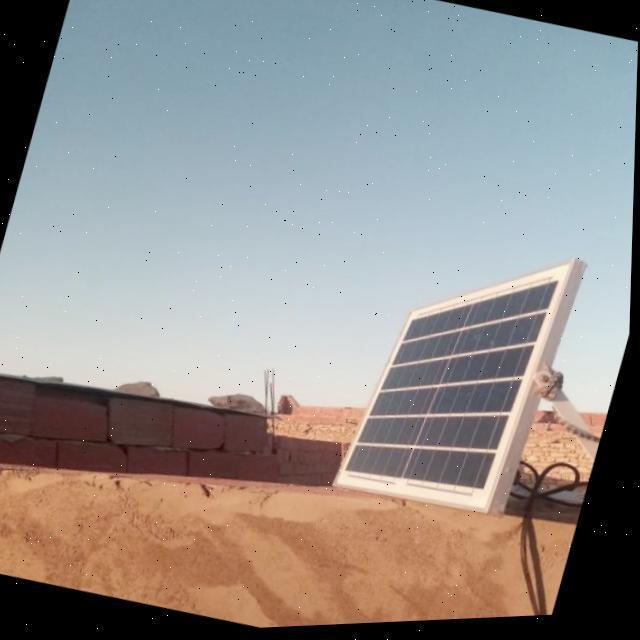Normal Solar Panel: (333, 224, 578, 530)
